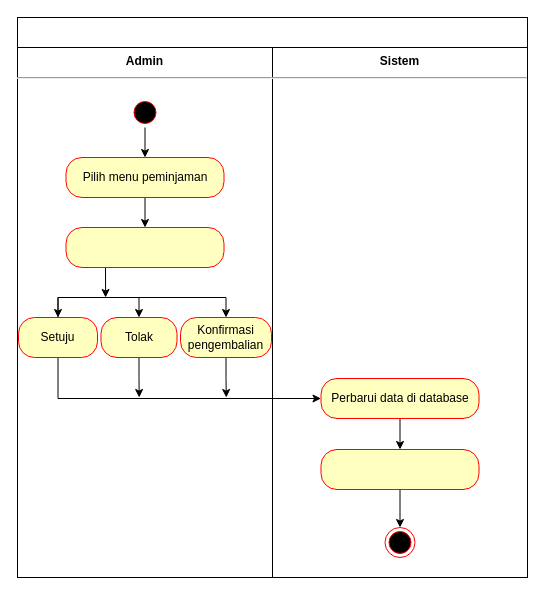
The diagram is 545 pixels wide and 595 high, and some of its shapes have lost their labels. Each missing label, with the centre of its shape:
"8. ACTIVITY DIAGRAM KELOLA TRANSAKSI BUKU" goes at [272,32].
"Pilih salah satu aksi pada tabel persetujuan" goes at [144,247].
"Tampilkan halaman daftar kelola peminjaman" goes at [399,469].
